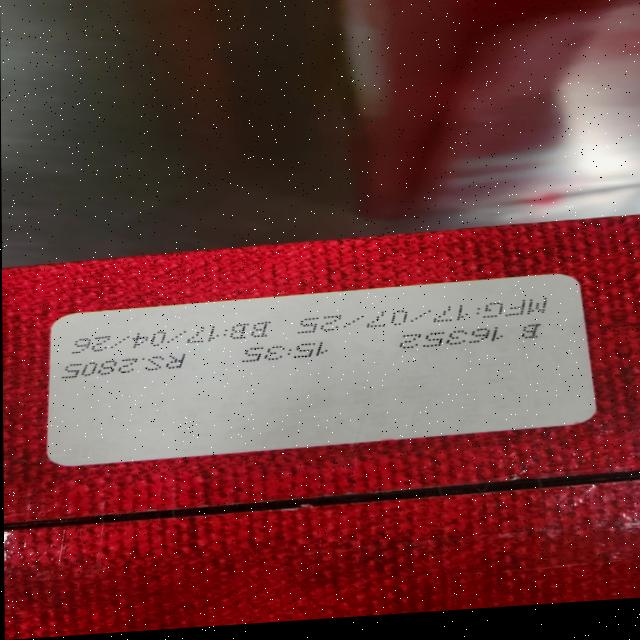BB: (72, 322, 271, 353)
Batch: (398, 324, 544, 350)
MFG: (296, 298, 544, 334)
RS: (60, 354, 188, 379)
TimeStamp: (240, 342, 332, 364)
